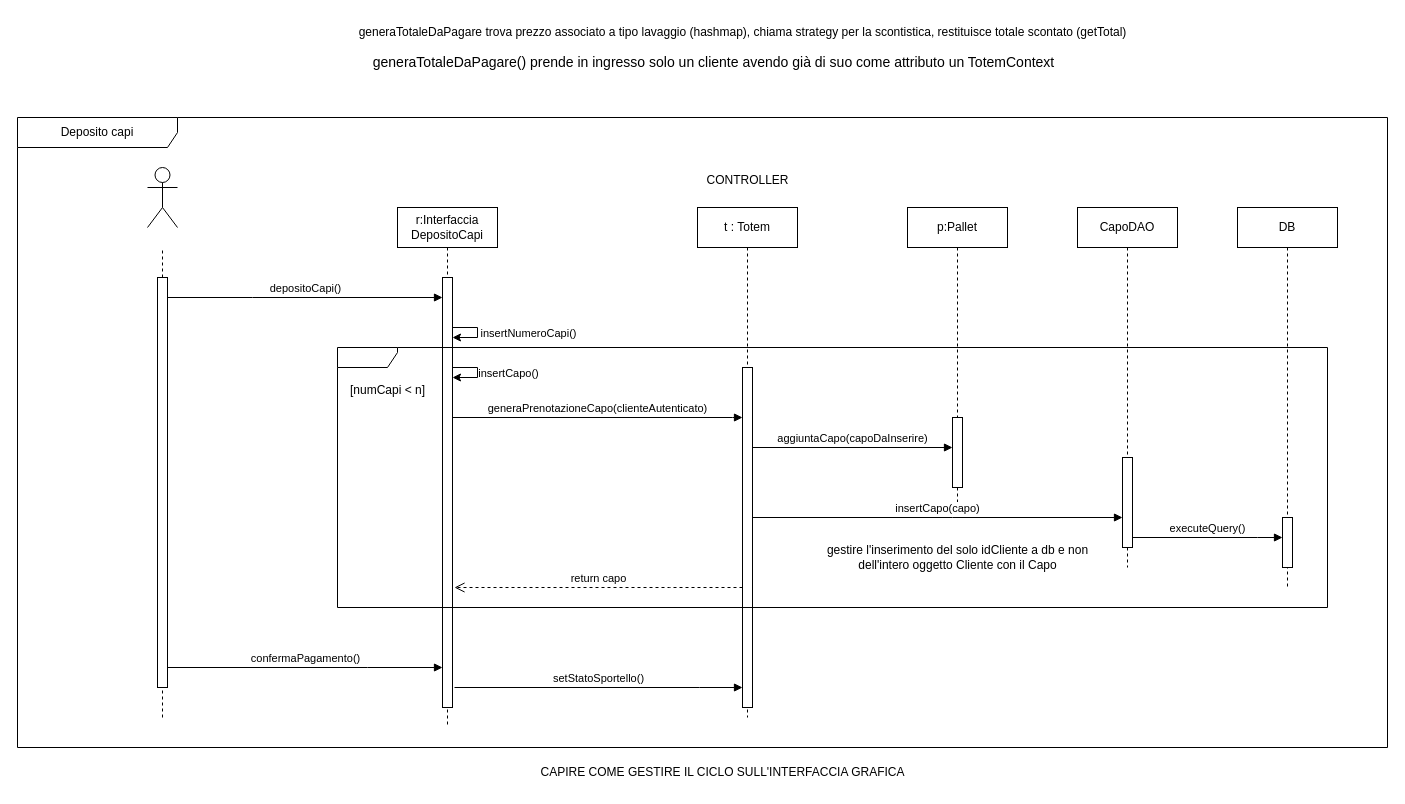
Image size: 1405x804. Some labels were removed from this diagram. The box of each missing label's shape, as (x1, y1, x2, y2) in pixels:
Cliente: (146, 166, 178, 228)
loop: (336, 346, 1328, 608)
